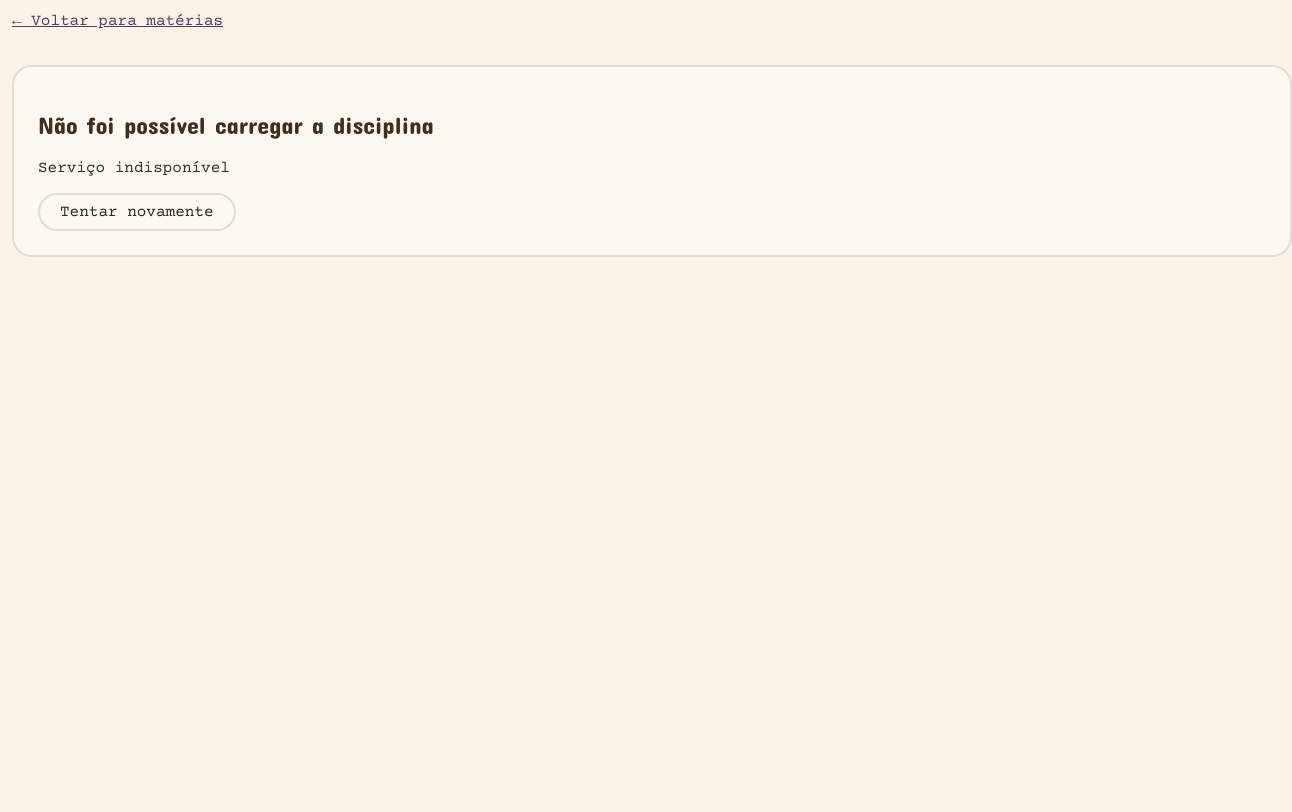
Test: Página de disciplina com API HTTP › permite tentar novamente após falha da API
The image size is (1292, 812).
Expected: the message shows "Serviço indisponível", x1=38 y1=159 x2=230 y2=177
Click the button "Tentar novamente": (137, 212) x1=38 y1=193 x2=236 y2=231
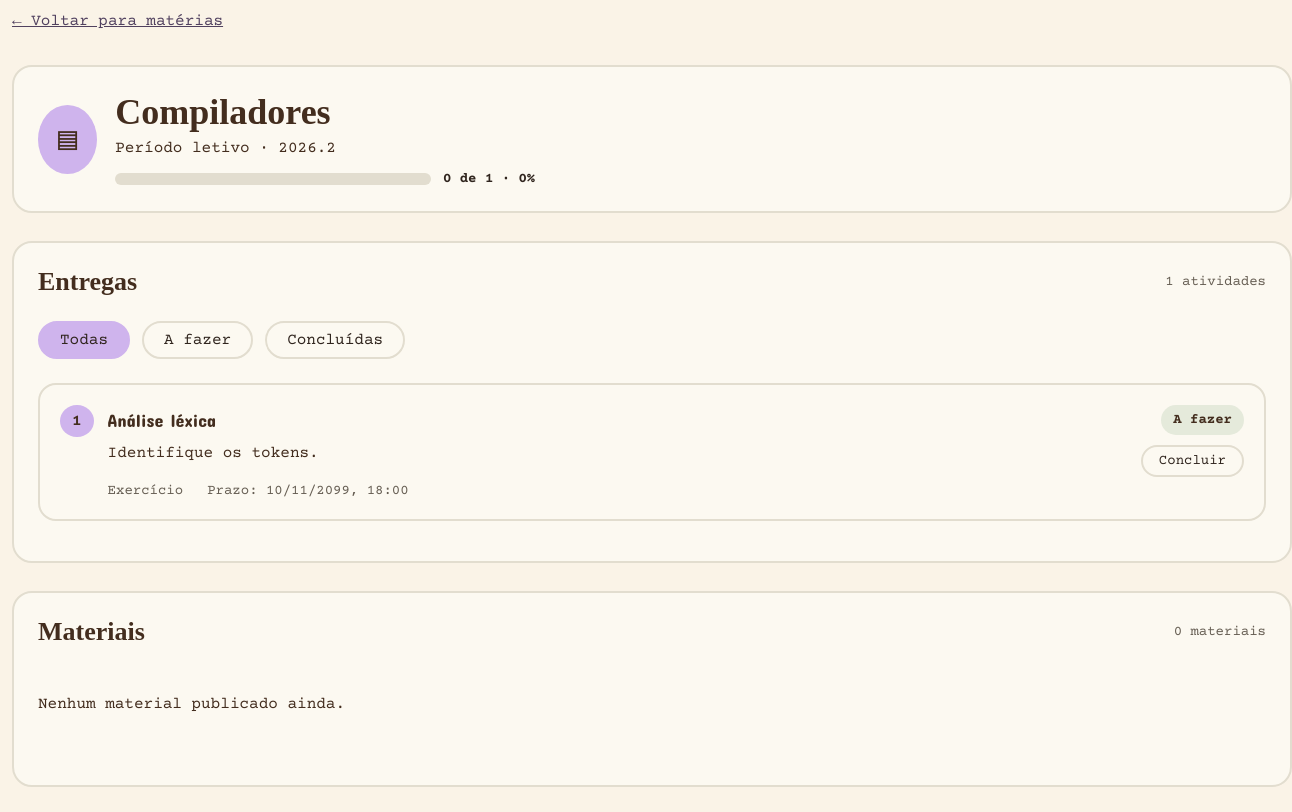
Result: the heading "Compiladores" is shown at x1=115 y1=92 x2=331 y2=132
